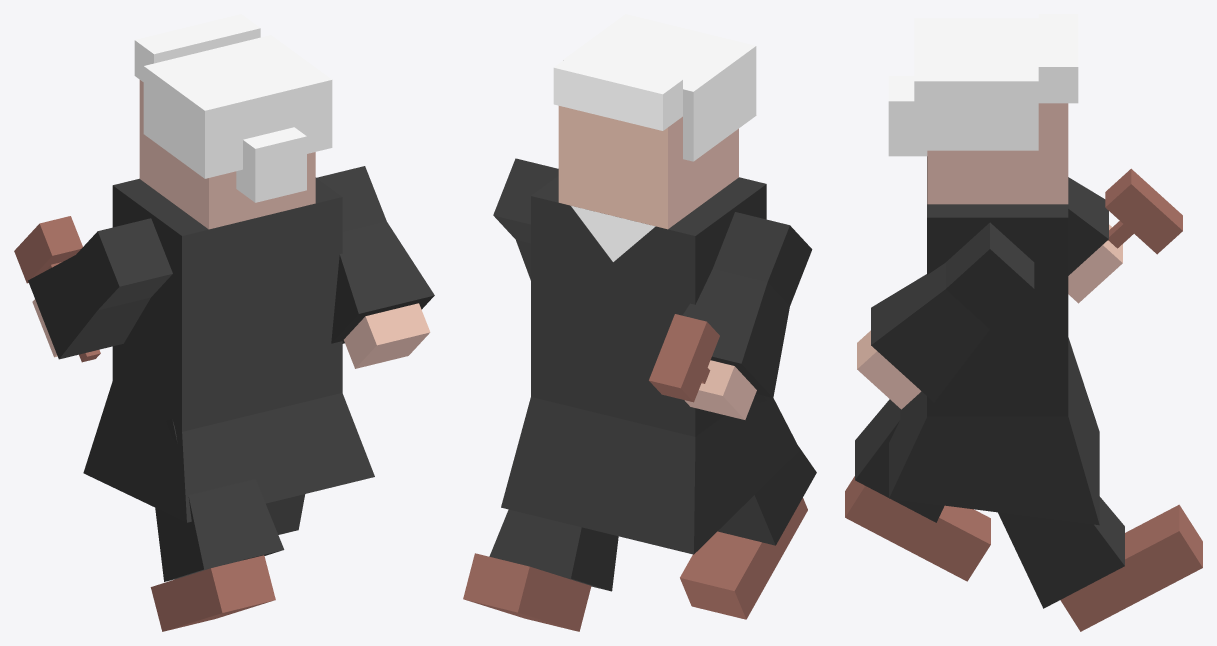
The model's file is sidewalk-judge-jump-2.glb.
The picture shows the model from 3 angles, left to right: view 1: azimuth 30°, elevation 25°; view 2: azimuth 150°, elevation 25°; view 3: azimuth 270°, elevation 25°; orthographic projection. The views are drawn at different scales.
Parts seen in each view (by area): view 1: UNIT.041, UNIT.043, UNIT.045, UNIT.042, UNIT.044; view 2: UNIT.041, UNIT.043, UNIT.044, UNIT.045, UNIT.042; view 3: UNIT.041, UNIT.042, UNIT.044, UNIT.045, UNIT.043.
Part boxes in pixels (x1,y1,x2,y2): UNIT.041: (83, 14, 374, 522); UNIT.043: (14, 216, 172, 362); UNIT.045: (130, 367, 284, 631); UNIT.042: (316, 166, 434, 368); UNIT.044: (266, 494, 305, 534); UNIT.041: (501, 14, 799, 554); UNIT.043: (649, 212, 812, 419); UNIT.044: (463, 509, 618, 631); UNIT.045: (680, 394, 816, 619); UNIT.042: (493, 158, 558, 280); UNIT.041: (888, 14, 1099, 525); UNIT.042: (857, 222, 1034, 409); UNIT.044: (959, 405, 1202, 631); UNIT.045: (845, 399, 990, 581); UNIT.043: (1068, 168, 1182, 303).
Size of the model in its own units: 0.7592 by 1.36 by 0.7982.
Materials: 1 (1 with a texture image).
